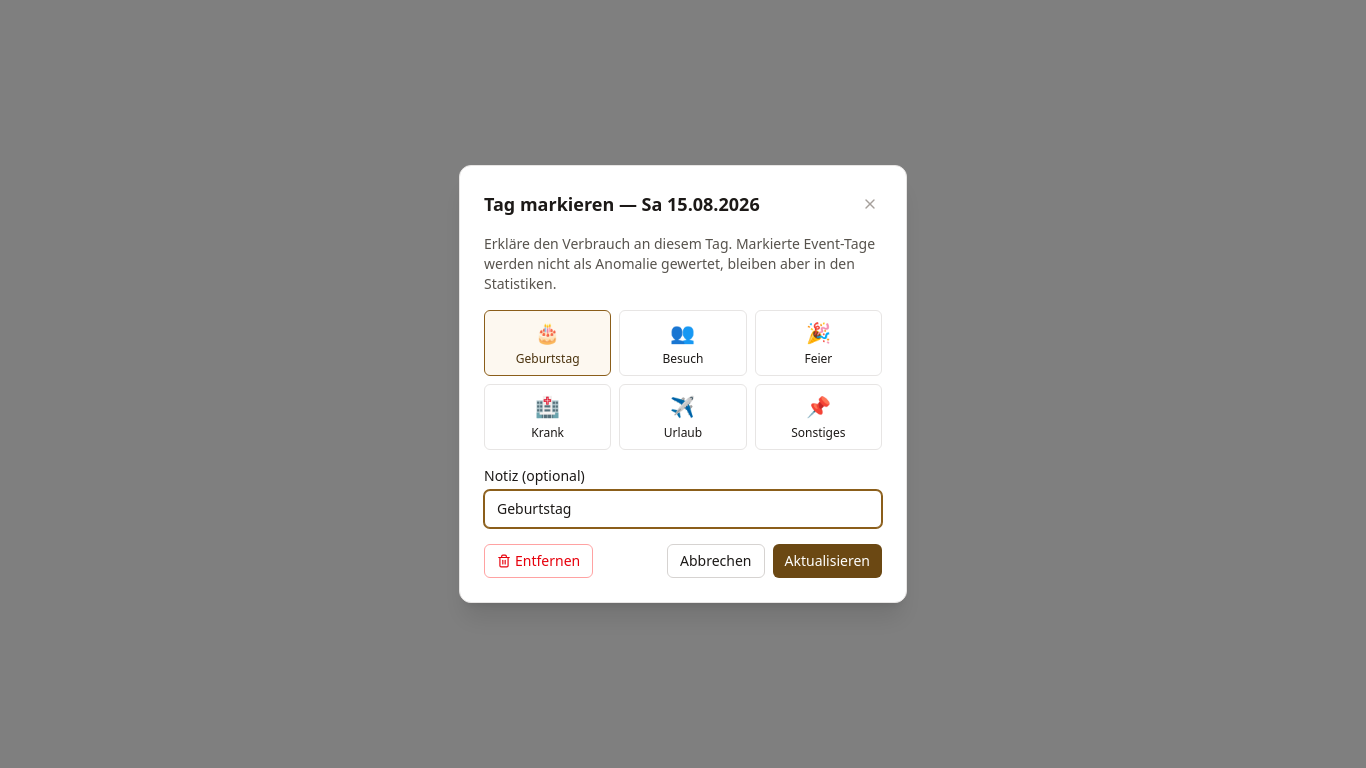
Test: MarkDayEventModal › surfaces a failed removal
Click the button "Entfernen": (539, 561) [484,544,593,578]
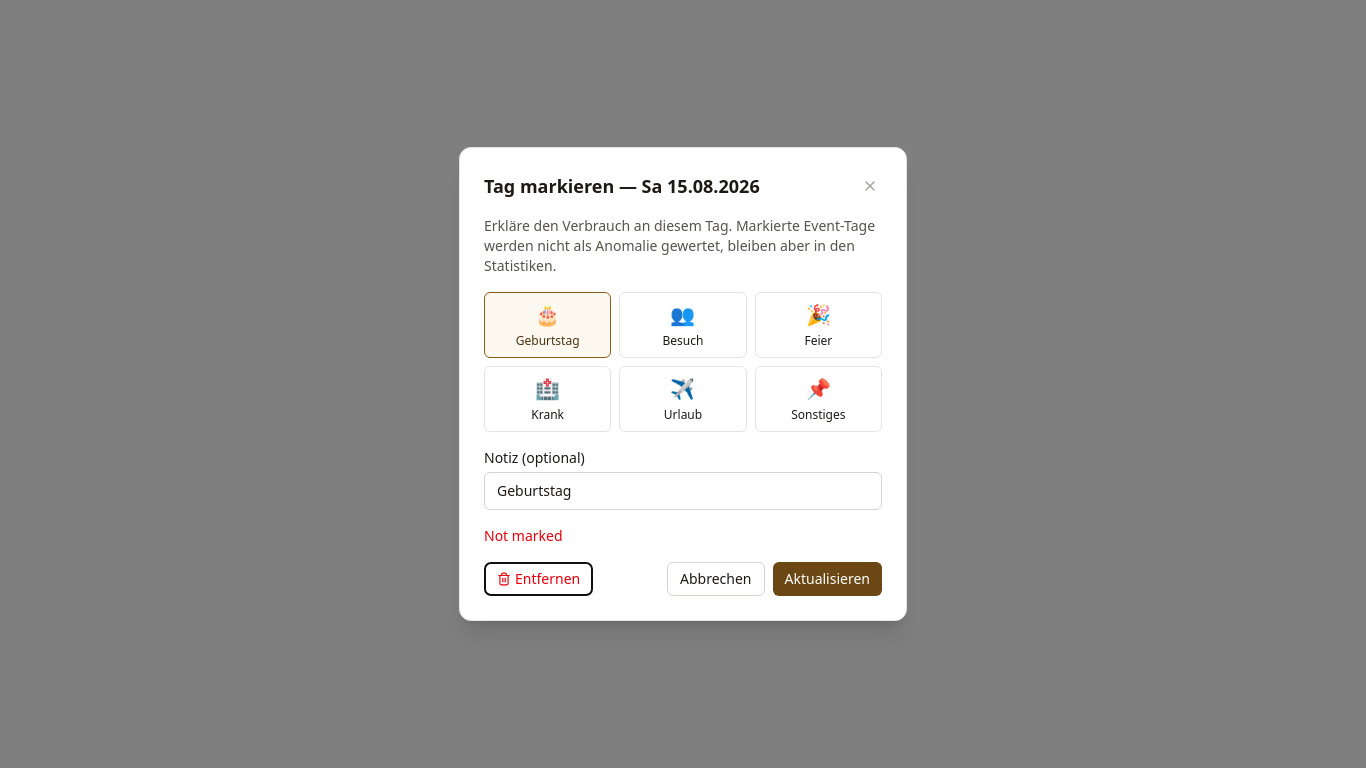
Expected: the text "Not marked" is shown, [484,526,562,545]
